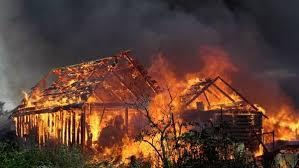fire: (8, 45, 282, 165)
